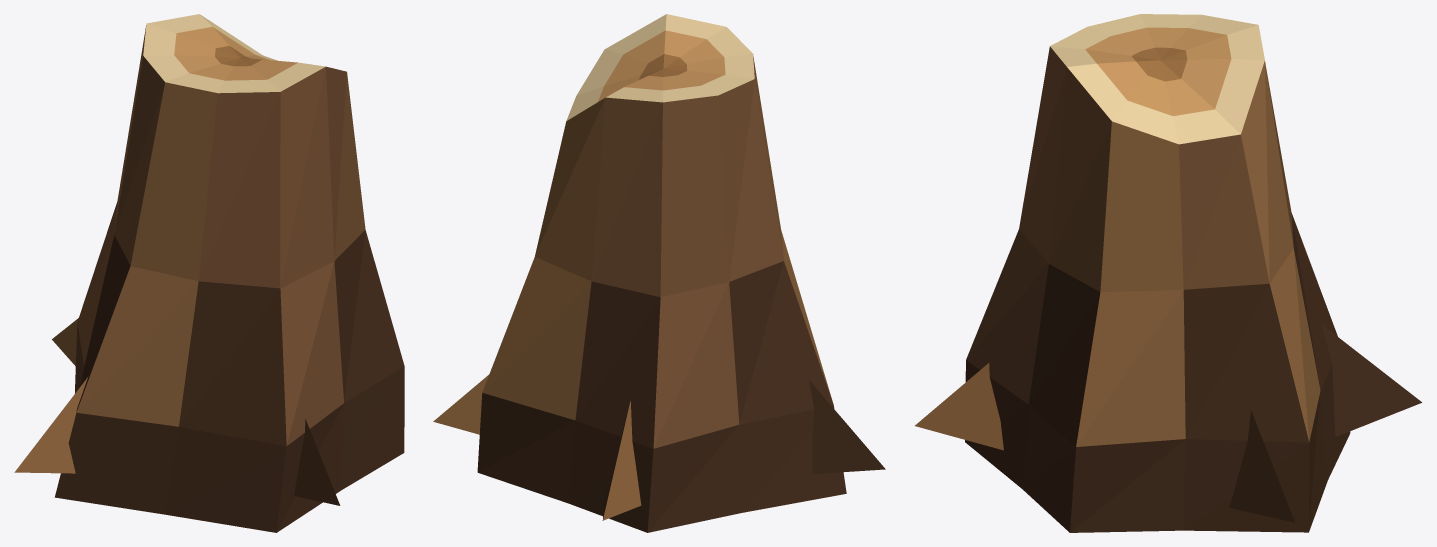
File: stump_high_cut.glb
3 renders of one model, left to right at view 1: azimuth 30°, elevation 25°; view 2: azimuth 150°, elevation 25°; view 3: azimuth 270°, elevation 25°, orthographic. The views are drawn at different scales.
Visible parts, largest first — view 1: stump_high_cut; view 2: stump_high_cut; view 3: stump_high_cut.
Boxes of the visible parts, x1,y1,x2,y2 form: stump_high_cut: (14,14,404,532); stump_high_cut: (433,14,885,532); stump_high_cut: (915,14,1421,532).
Size of the model in its own units: 1.2 by 1.17 by 1.26.
